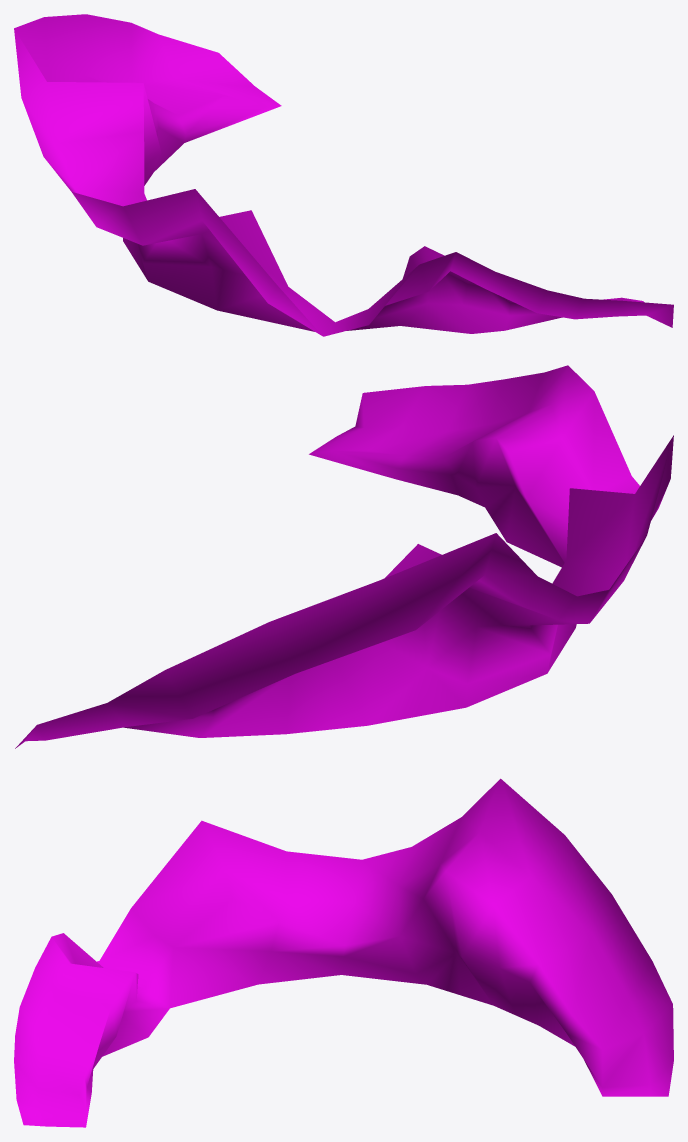
File: BIGramp_mesh.fbx
The picture shows the model from 3 angles, top to bottom: view 1: azimuth 30°, elevation 25°; view 2: azimuth 150°, elevation 25°; view 3: azimuth 270°, elevation 25°; orthographic projection. The views are drawn at different scales.
Visible parts, largest first — view 1: BIGramp_mesh; view 2: BIGramp_mesh; view 3: BIGramp_mesh.
Boxes of the visible parts, box(x1,y1,x2,y2) form: BIGramp_mesh: box(14, 14, 673, 336); BIGramp_mesh: box(15, 365, 673, 748); BIGramp_mesh: box(14, 778, 673, 1127).
Size of the model in its own units: 89.4 by 40.77 by 138.
